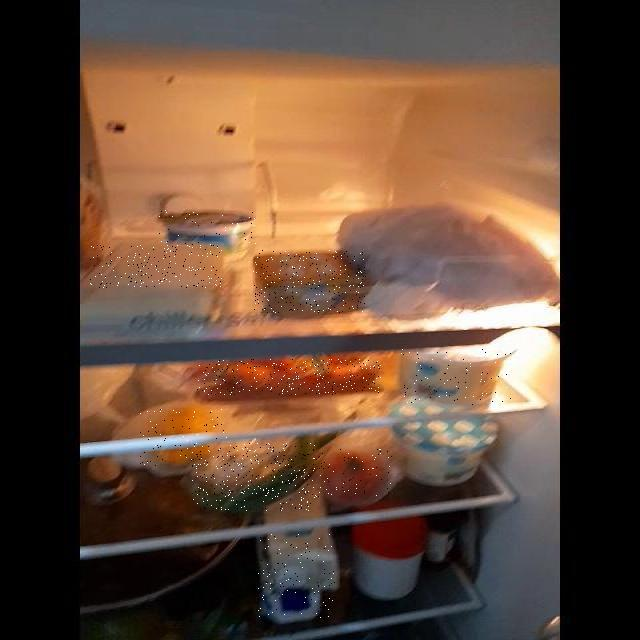butter: (254, 250, 368, 313)
carrot: (197, 359, 382, 395)
cheese: (90, 244, 222, 288)
green chilies: (192, 443, 316, 511)
lemon: (140, 409, 227, 466)
milk: (258, 534, 336, 618)
tomato: (314, 449, 392, 498)
yoghurt: (393, 407, 496, 482), (400, 349, 511, 405), (158, 210, 256, 244)
